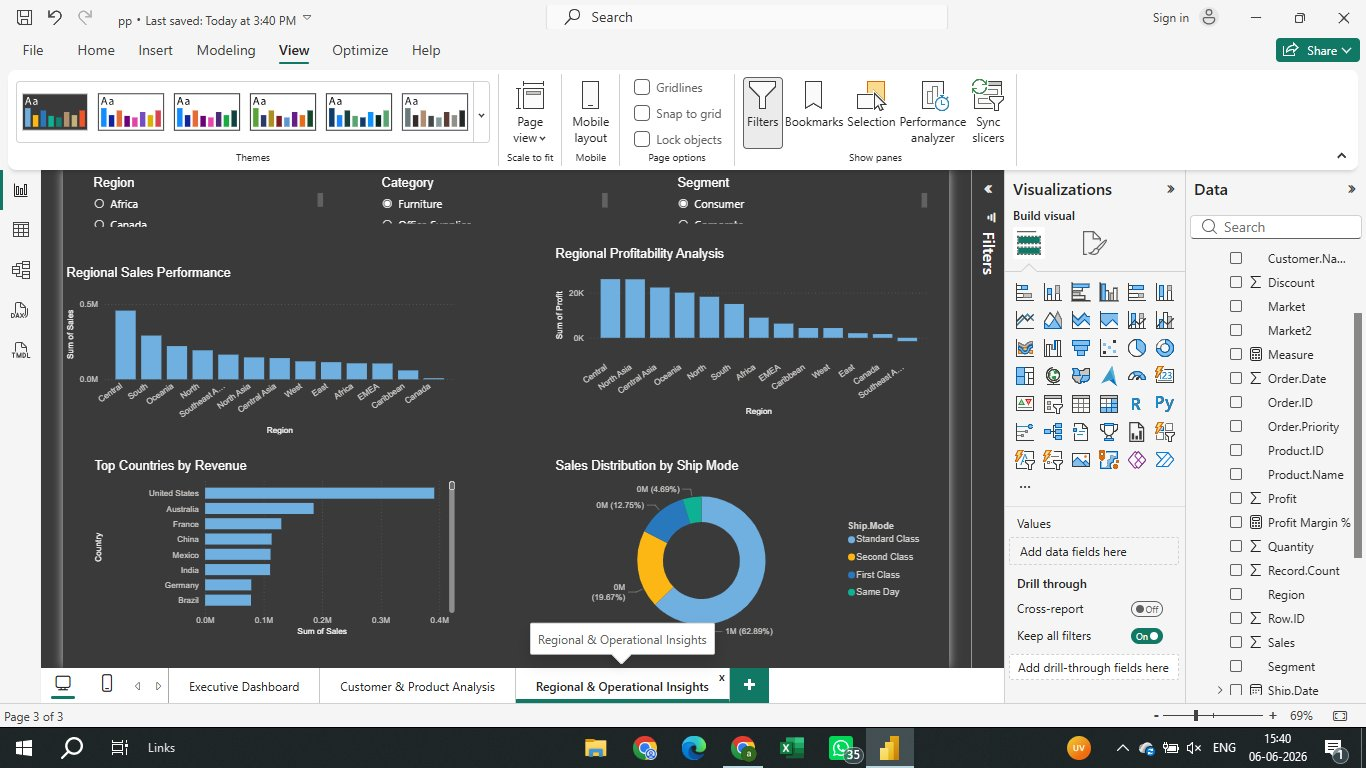

The page's visual inventory and layout, read from the dashboard file:
{"tool":"powerbi","page":{"name":"Regional & Operational Insights","canvas":[1280,720],"ordinal":2},"visuals":[{"type":"clusteredColumnChart","title":"Regional Sales Performance","fields":{"Category":["superstore_fixed.Region"],"Y":["Sum(superstore_fixed.Sales)"]},"box":[0,137.7,571.1,250.3],"z":0},{"type":"columnChart","title":"Regional Profitability Analysis","fields":{"Category":["superstore_fixed.Region"],"Y":["Sum(superstore_fixed.Profit)"]},"box":[707.2,109.2,547.6,250.3],"z":1000},{"type":"barChart","title":"Top Countries by Revenue","fields":{"Category":["superstore_fixed.Country"],"Y":["Sum(superstore_fixed.Sales)"]},"box":[40.3,416.6,530.8,262],"z":2000},{"type":"donutChart","title":"Sales Distribution by Ship Mode","fields":{"Category":["superstore_fixed.Ship.Mode"],"Y":["Sum(superstore_fixed.Sales)"]},"box":[707.2,416.6,545.9,275.5],"z":3000},{"type":"listSlicer","fields":{"Values":["superstore_fixed.Category"]},"box":[455.2,6.7,337.6,75.6],"z":4000},{"type":"listSlicer","fields":{"Values":["superstore_fixed.Segment"]},"box":[883.6,6.7,371.2,75.6],"z":5000},{"type":"listSlicer","fields":{"Values":["superstore_fixed.Region"]},"box":[39.7,7.3,342.4,80.8],"z":6000}]}

Visuals, with their boxes on the page's 1280x720 design canvas (x1, y1, x2, y2). These are canvas units, not pixel positions in the 1366x768 screenshot, which may show the page scaled, cropped or inside an application window:
"Regional Sales Performance" clusteredColumnChart: region(0, 138, 571, 388)
"Regional Profitability Analysis" columnChart: region(707, 109, 1255, 360)
"Top Countries by Revenue" barChart: region(40, 417, 571, 679)
"Sales Distribution by Ship Mode" donutChart: region(707, 417, 1253, 692)
listSlicer - superstore_fixed.Category: region(455, 7, 793, 82)
listSlicer - superstore_fixed.Segment: region(884, 7, 1255, 82)
listSlicer - superstore_fixed.Region: region(40, 7, 382, 88)
